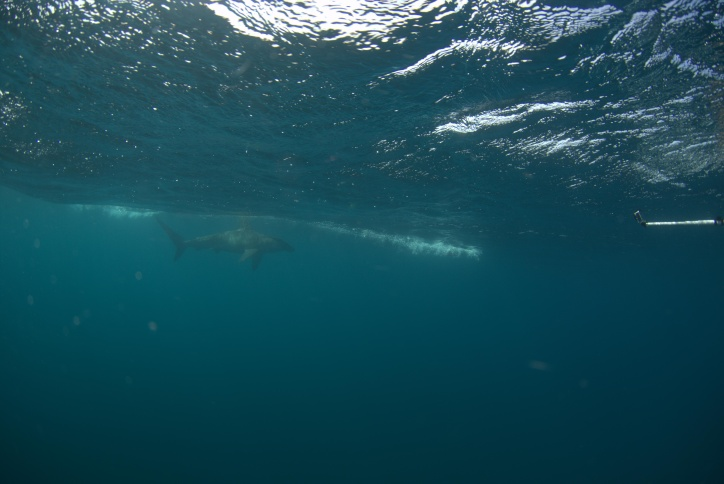Hammer: (142, 203, 310, 289)
